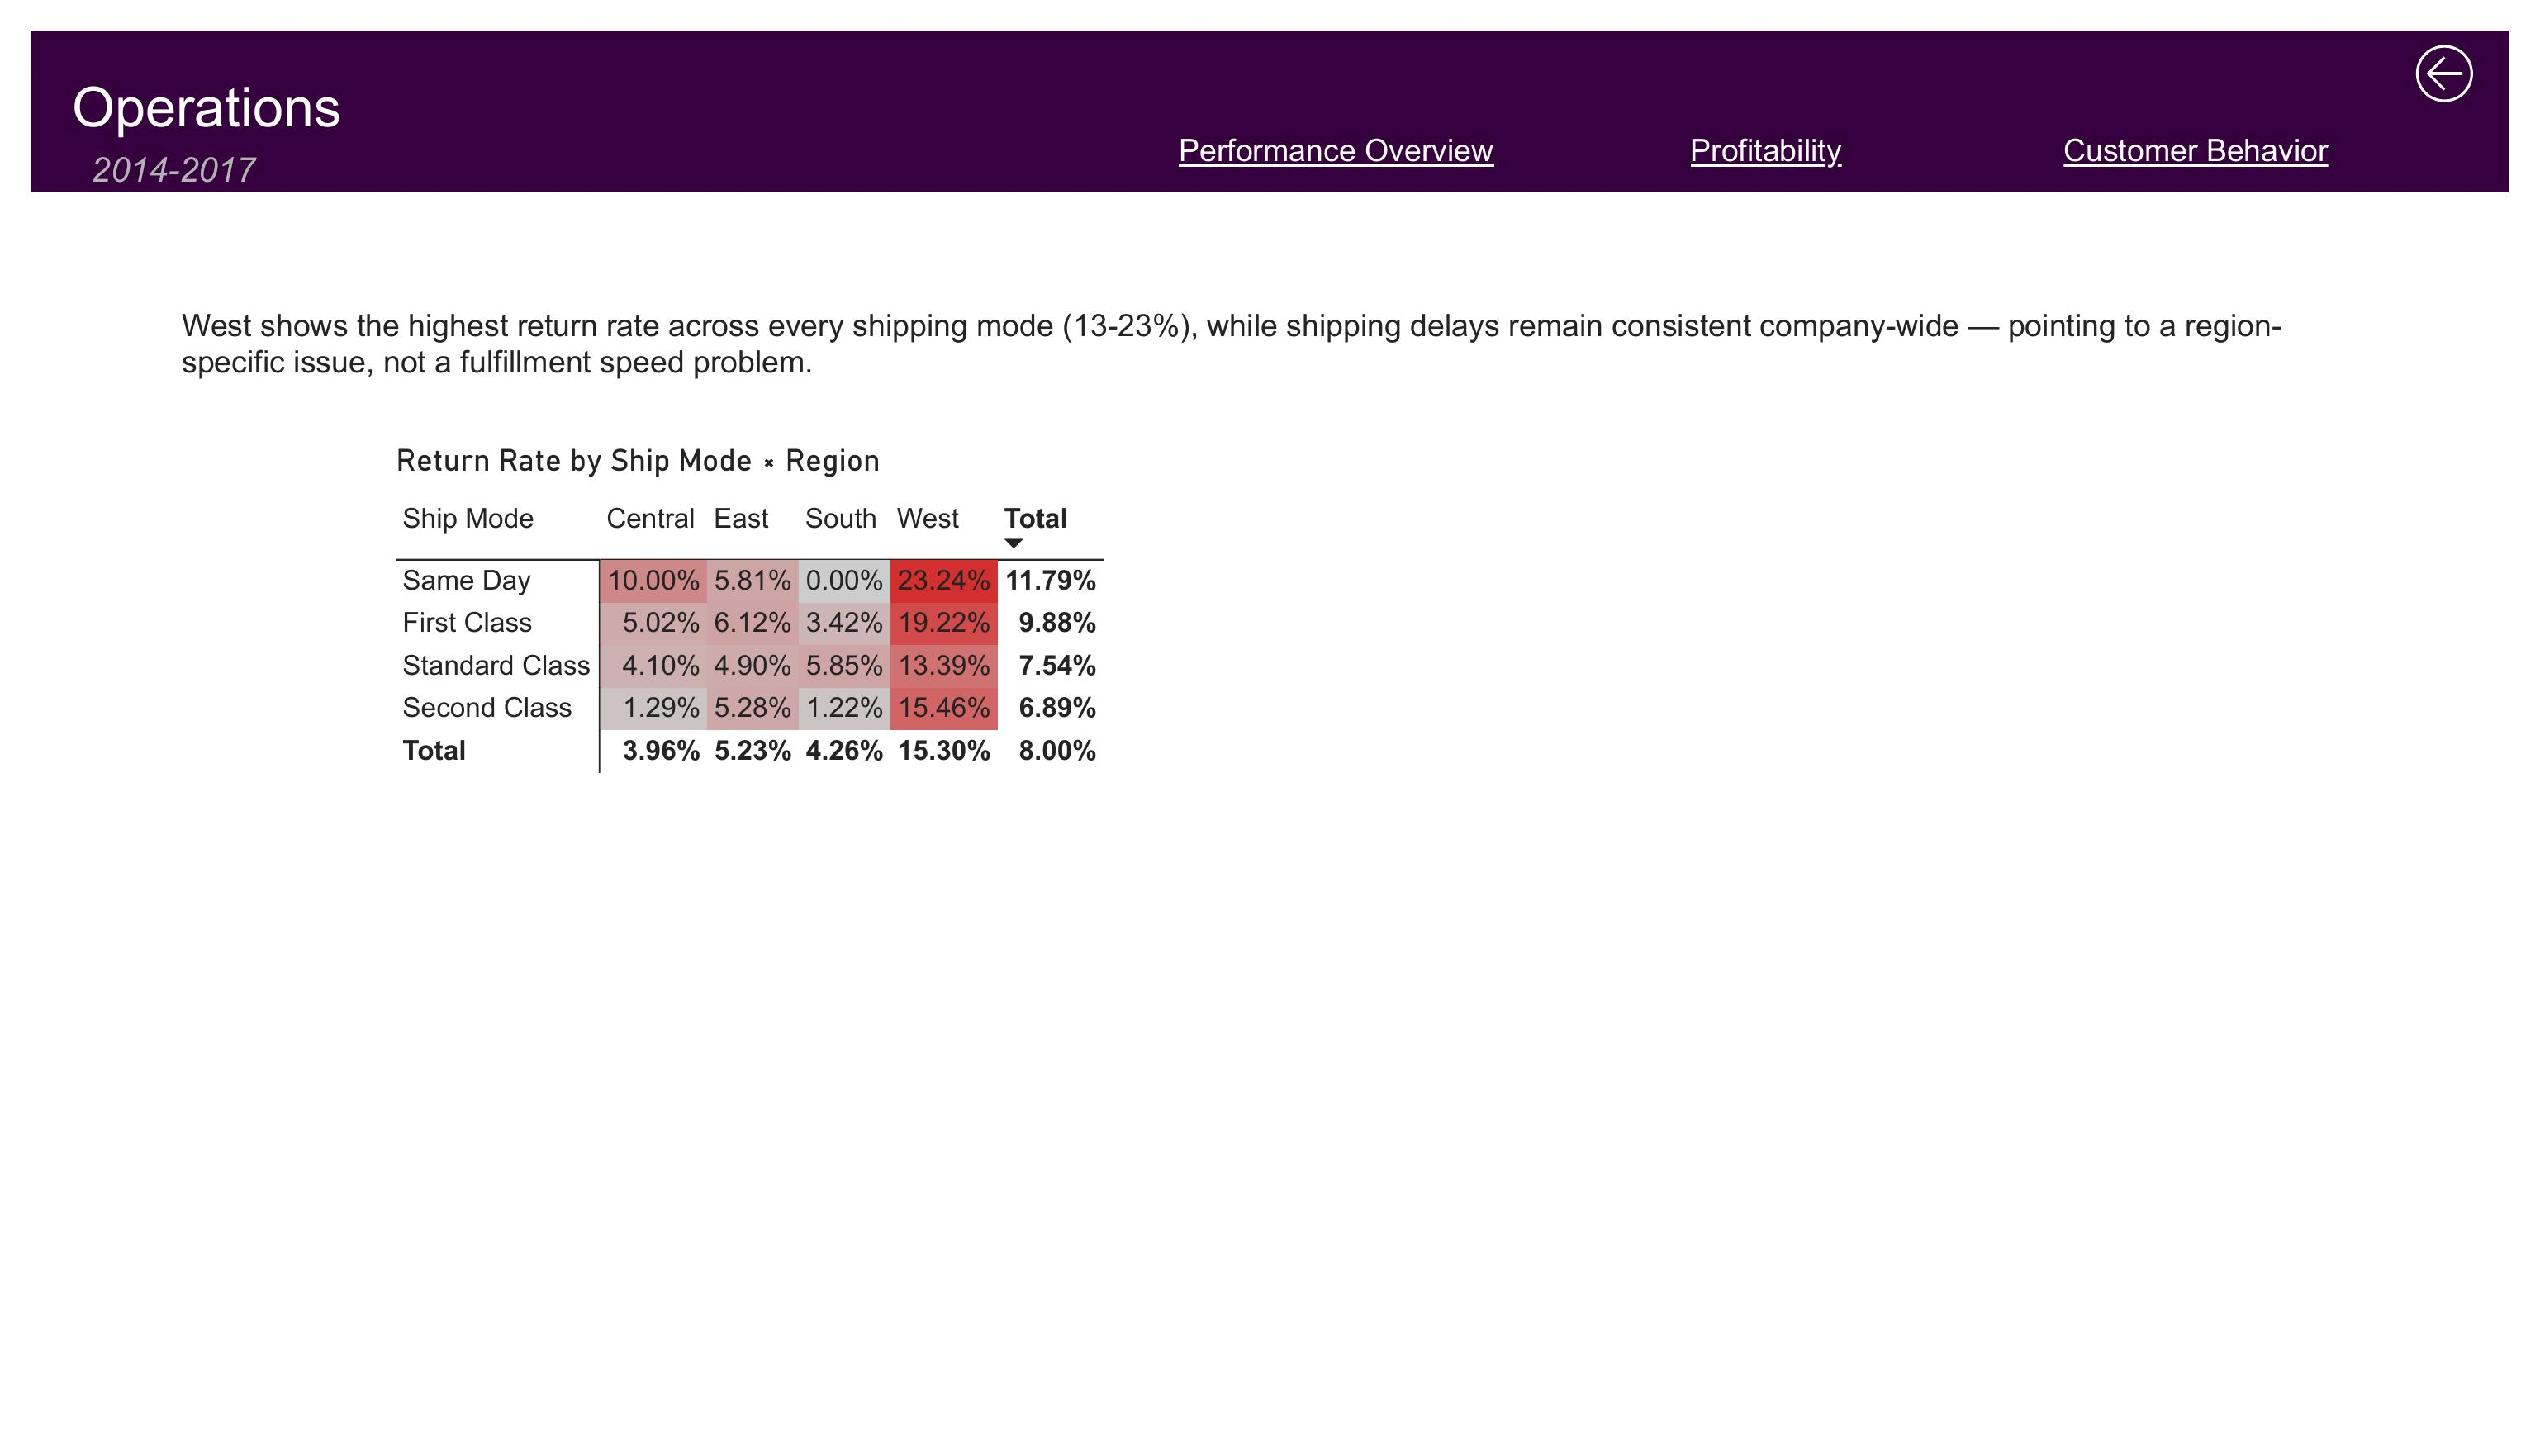

Layout of this report page (visuals, bound fields, positions):
{"tool":"powerbi","page":{"name":"Operations","canvas":[1920,1080],"ordinal":3},"visuals":[{"type":"shape","box":[0,0,1920.2,125.2],"z":0},{"type":"textbox","box":[31.7,35.1,531,58.4],"z":1000},{"type":"pivotTable","title":"Return Rate by Ship Mode × Region","fields":{"Rows":["fct_shipping_ops.ship_mode"],"Columns":["fct_shipping_ops.region"],"Values":["fct_shipping_ops.True Return Rate"]},"box":[266.7,305,592.7,327.3],"z":2000},{"type":"textbox","box":[116.7,215,1703.3,90],"z":3000},{"type":"textbox","box":[47.3,92.7,190.9,47.3],"z":4000},{"type":"shape","box":[845.5,60,332.7,65.5],"z":5000},{"type":"shape","box":[1178.2,60,332.7,65.5],"z":6000},{"type":"shape","box":[1510.9,60,332.7,65.5],"z":7000},{"type":"actionButton","box":[1820,0,100,65],"z":7001}]}

Visuals, with their boxes on the page's 1920x1080 design canvas (x1, y1, x2, y2). These are canvas units, not pixel positions in the 2540x1456 screenshot, which may show the page scaled, cropped or inside an application window:
shape: x1=0 y1=0 x2=1920 y2=125
textbox: x1=32 y1=35 x2=563 y2=94
"Return Rate by Ship Mode × Region" pivotTable: x1=267 y1=305 x2=859 y2=632
textbox: x1=117 y1=215 x2=1820 y2=305
textbox: x1=47 y1=93 x2=238 y2=140
shape: x1=846 y1=60 x2=1178 y2=126
shape: x1=1178 y1=60 x2=1511 y2=126
shape: x1=1511 y1=60 x2=1844 y2=126
actionButton: x1=1820 y1=0 x2=1920 y2=65
